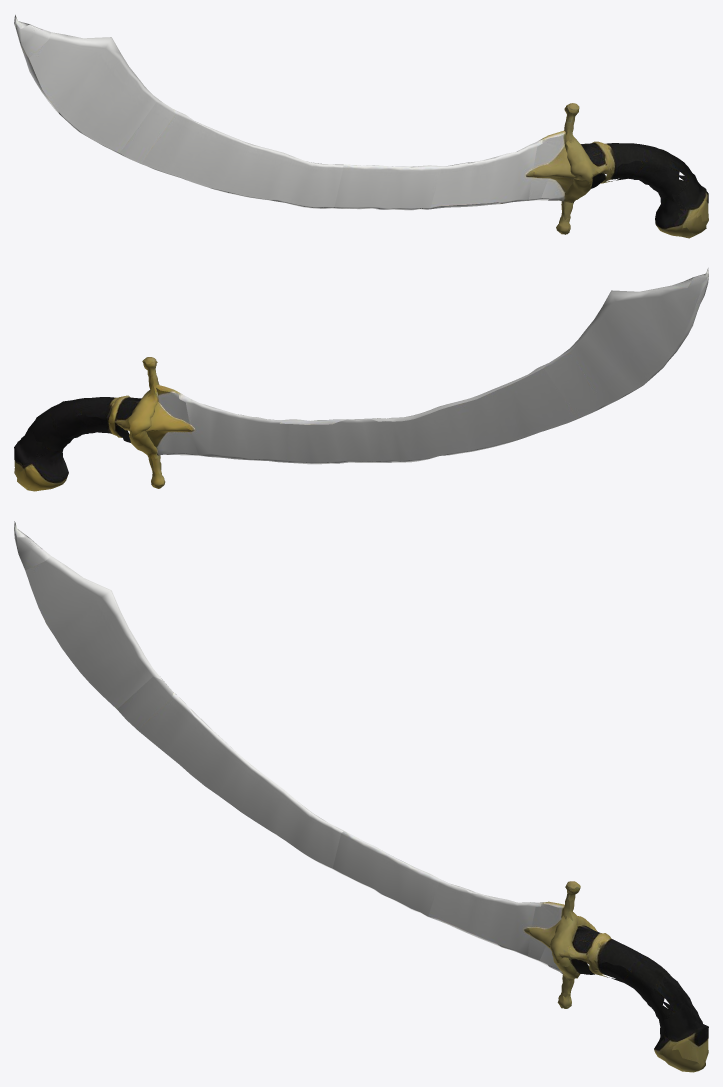
Rendered from kilij-sword.glb.
The picture shows the model from 3 angles, top to bottom: view 1: azimuth 30°, elevation 25°; view 2: azimuth 150°, elevation 25°; view 3: azimuth 330°, elevation 25°; orthographic projection.
Visible parts, largest first — view 1: mesh_node; view 2: mesh_node; view 3: mesh_node.
Boxes of the visible parts, bbox=[...] form: mesh_node: bbox=[14, 15, 708, 238]; mesh_node: bbox=[14, 268, 708, 491]; mesh_node: bbox=[14, 521, 708, 1072].
Bounding box in the file's own units: 0.95 × 0.5103 × 0.0854.
Materials: 1 (1 with a texture image).
